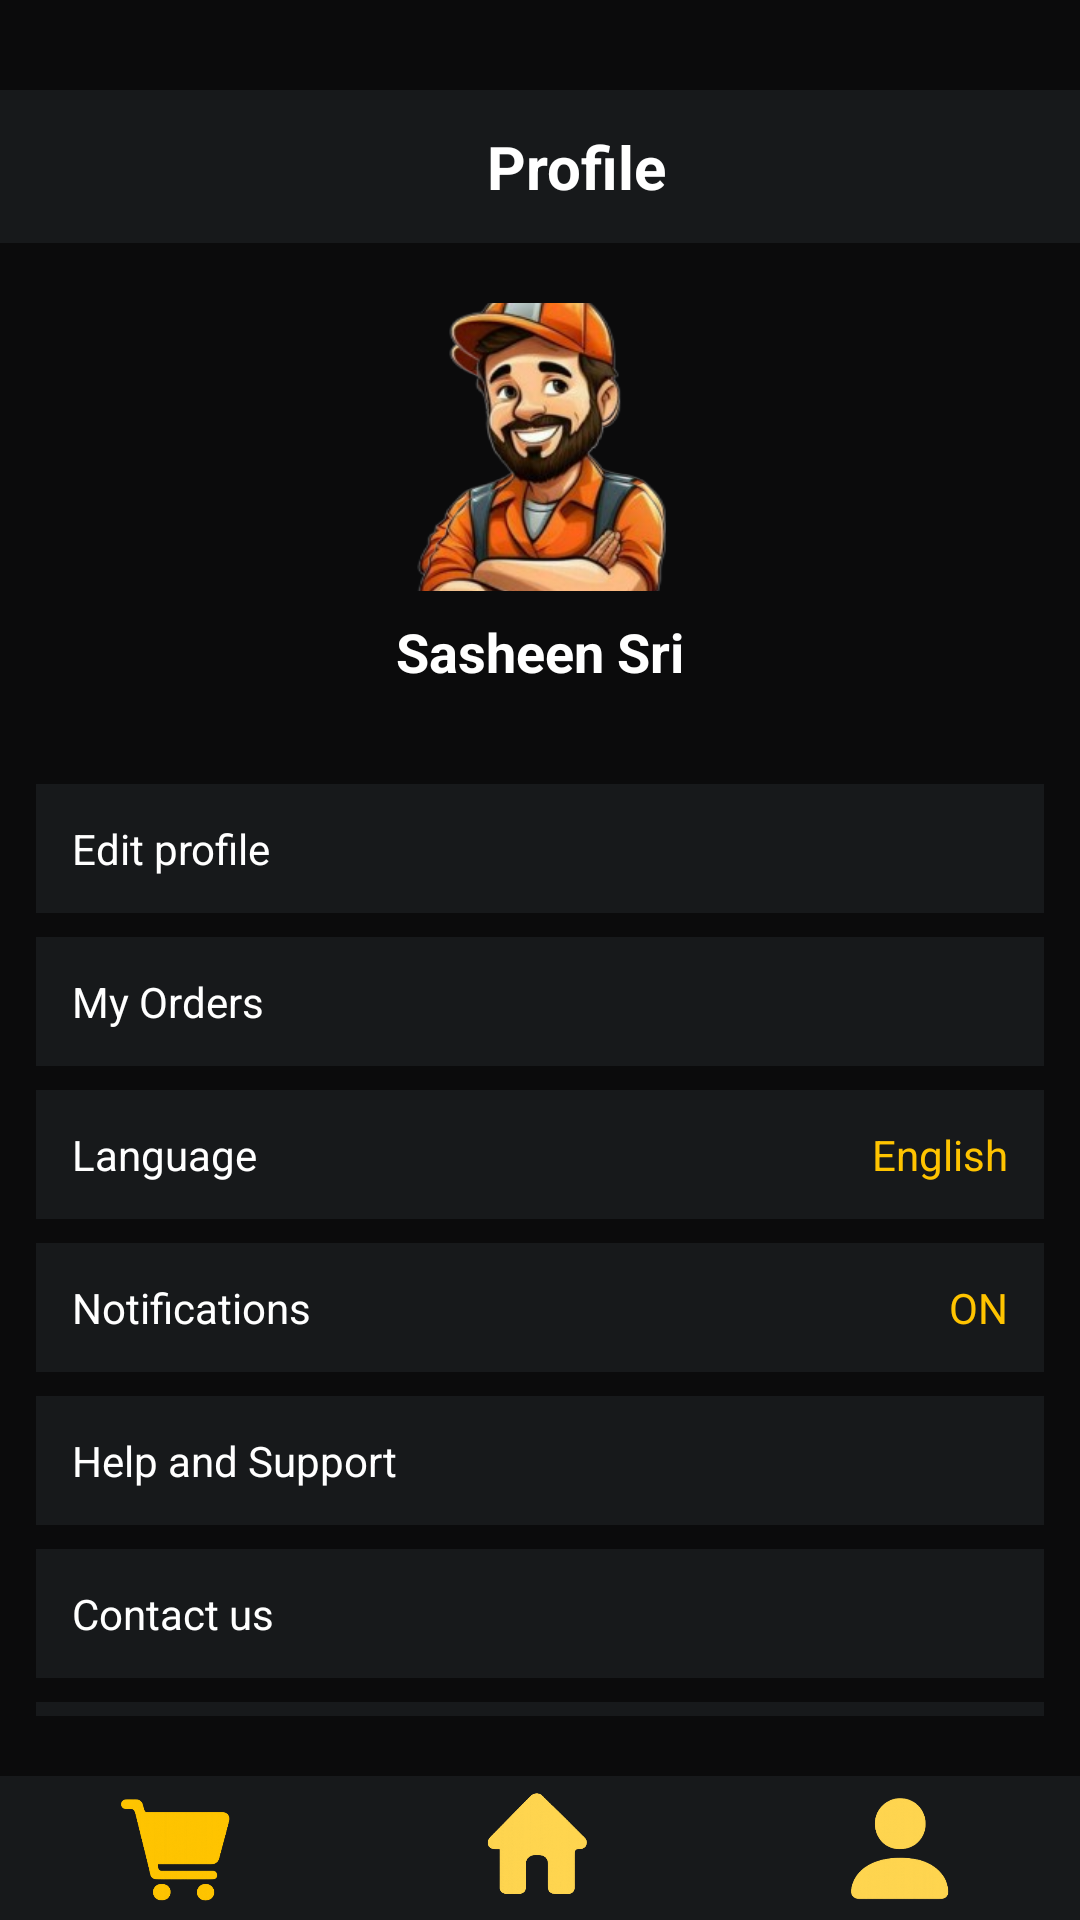

Screen size 1080*1920. Icon name, then its center in pixels as (x=x, y=y):
cart: (x=175, y=1850)
home: (x=537, y=1843)
profile: (x=900, y=1848)
prophoto: (x=542, y=447)
